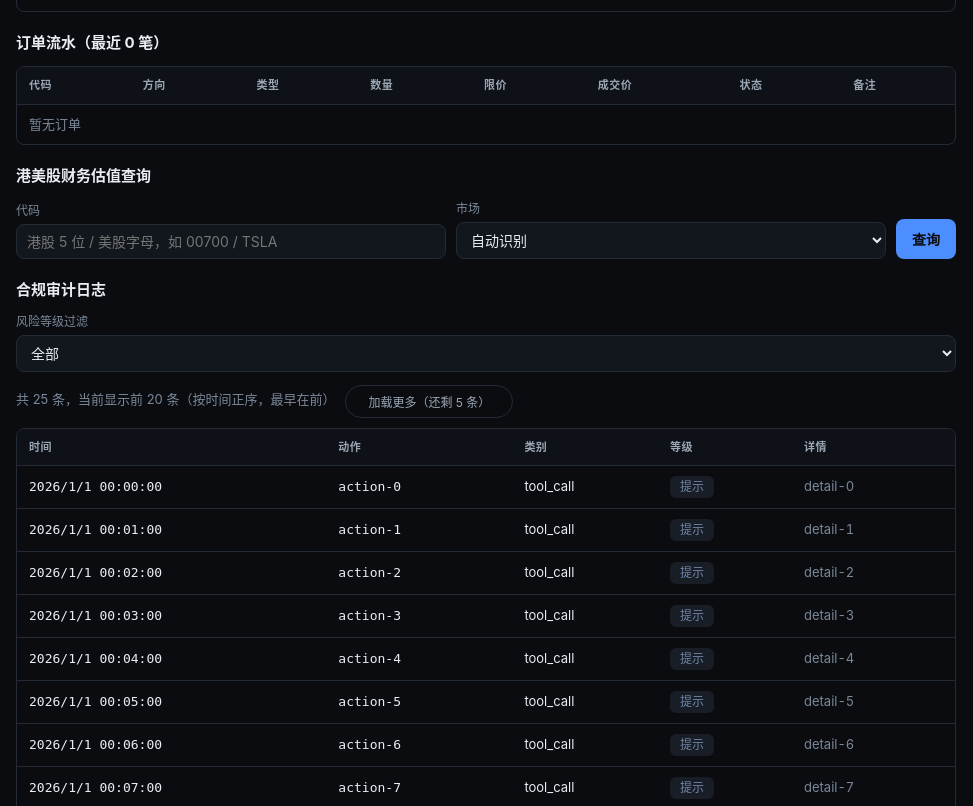
Scenario: PaperTradingPage 审计日志分页 › 同帧连点两次「加载更多」：只发一次请求，且 offset 不会重复取同一页
The image size is (973, 806).
(page scrolled)
Click the button "加载更多（还剩 5 条）". click: coordinates (429, 401)
box: [346, 384, 513, 418]
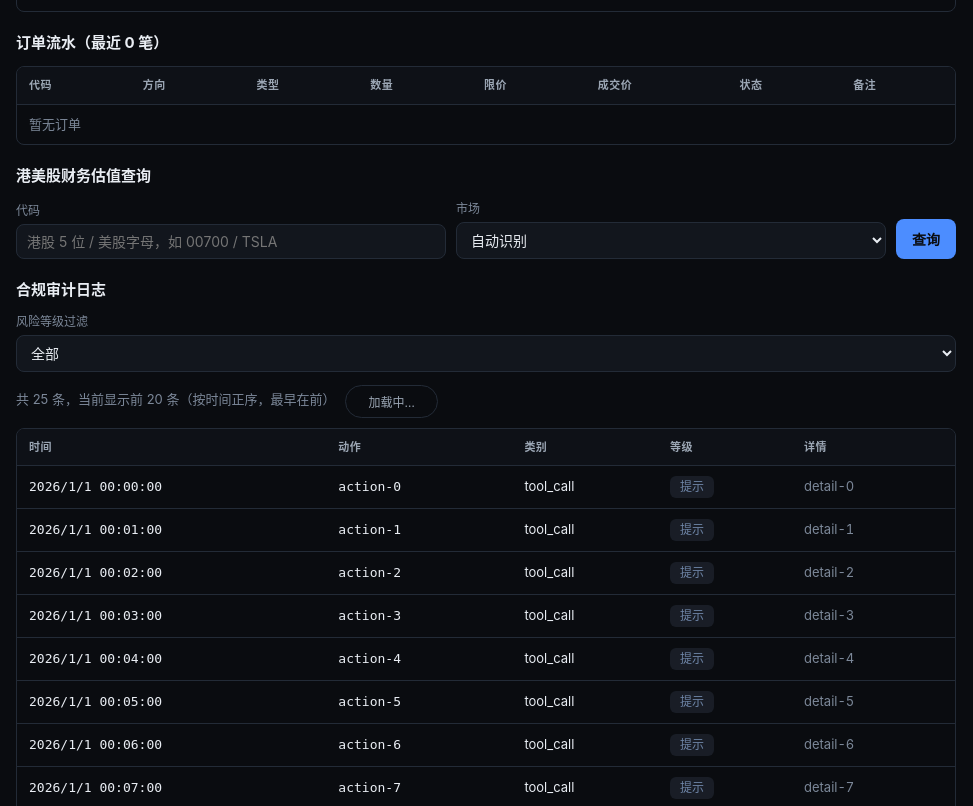
Click the button named "加载更多". click: coordinates (392, 401)
box: [346, 384, 438, 418]
(page scrolled)
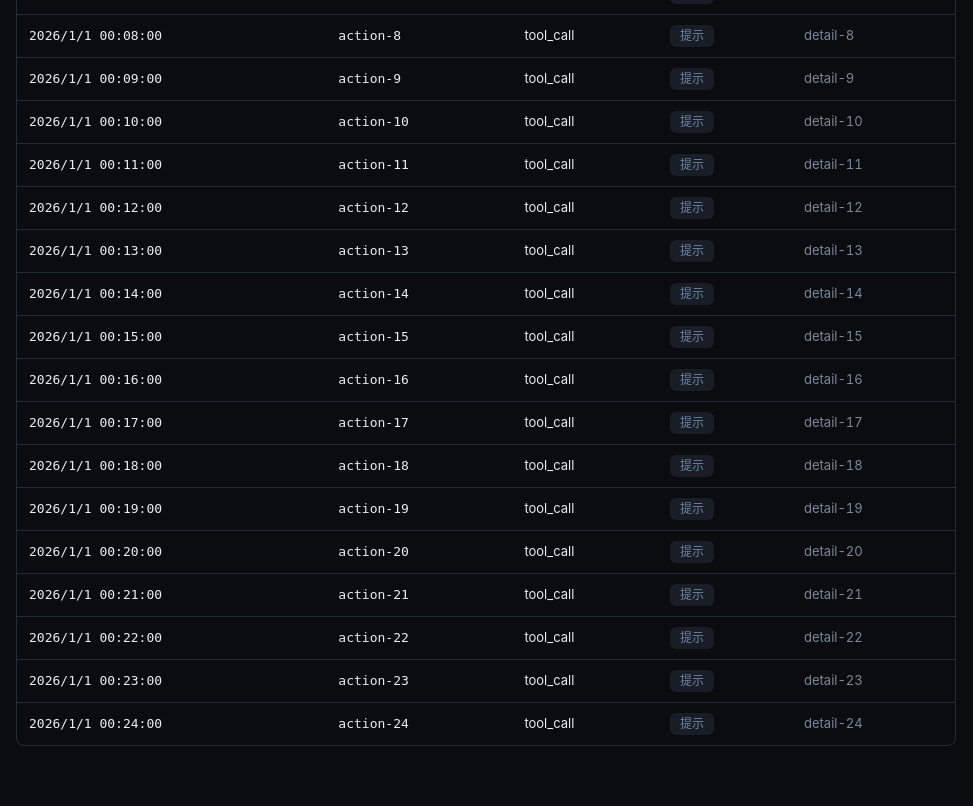
Expected: the button "加载更多" is not shown
Result: the text "detail-24" is shown at [792, 702, 955, 745]
